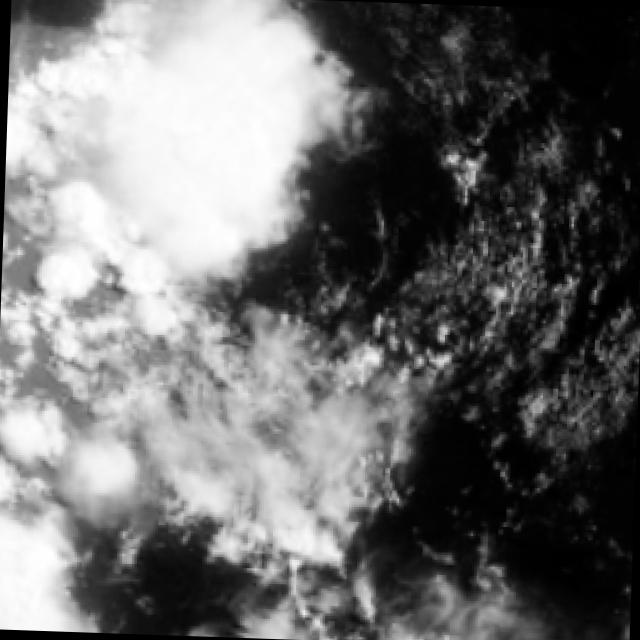CB: (133, 36, 284, 231)
